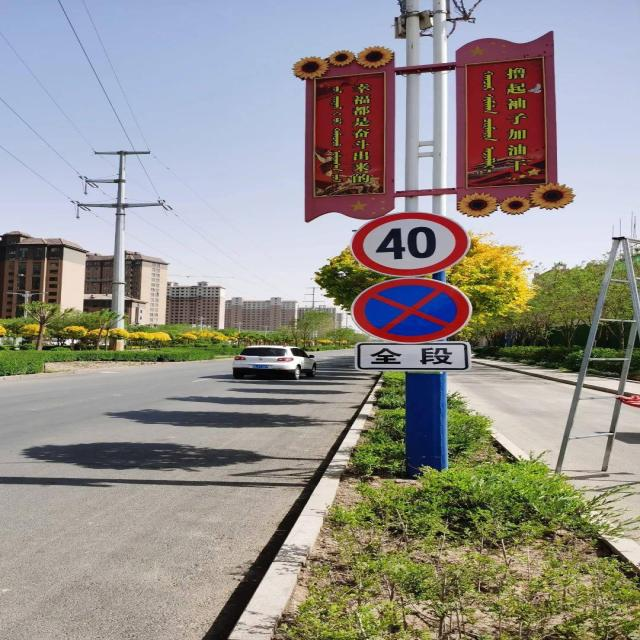speed limit 40: (349, 215, 468, 275)
